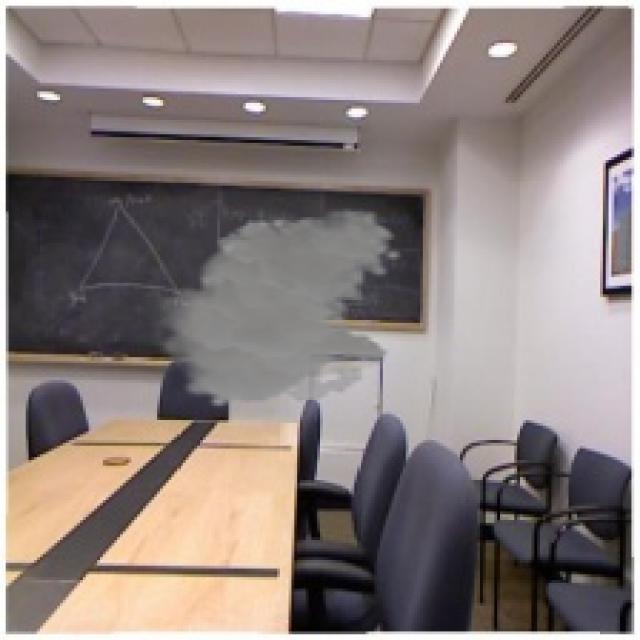smoke: (148, 208, 403, 408)
